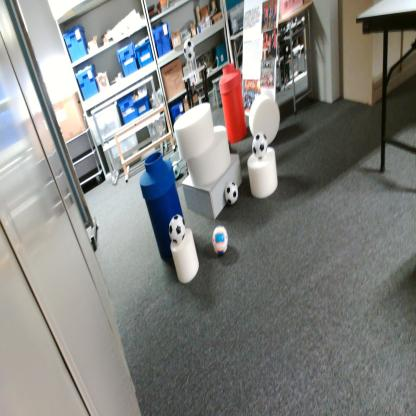ball: (168, 213, 186, 246), (212, 224, 228, 258), (252, 131, 268, 161), (224, 180, 238, 207), (183, 38, 196, 63), (172, 160, 181, 180)
